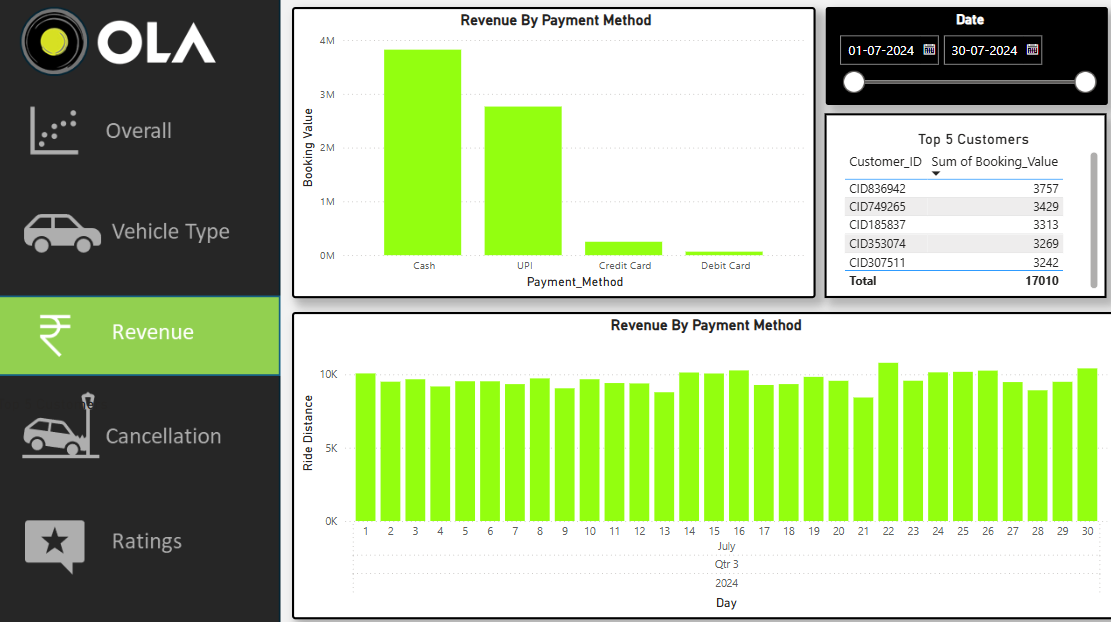

The page's visual inventory and layout, read from the dashboard file:
{"tool":"powerbi","page":{"name":"Revenue","canvas":[1280,720],"ordinal":2},"visuals":[{"type":"actionButton","box":[0,223.2,323.3,86.9],"z":0},{"type":"actionButton","title":"Top 5 Customers","box":[0,454.8,323.3,86.9],"z":1000},{"type":"actionButton","box":[0,580.3,323.3,86.9],"z":2000},{"type":"columnChart","title":"Revenue By Payment Method","fields":{"Y":["Sum(July.Booking_Value)"],"Category":["July.Payment_Method"]},"box":[337.8,10.9,598.4,333],"z":3000},{"type":"columnChart","title":"Revenue By Payment Method","fields":{"Y":["Sum(July.Ride_Distance)"],"Category":["July.Date.Variation.Date Hierarchy.Year","July.Date.Variation.Date Hierarchy.Quarter","July.Date.Variation.Date Hierarchy.Month","July.Date.Variation.Date Hierarchy.Day"]},"box":[337.8,359.5,942.2,351.1],"z":4000},{"type":"slicer","title":"Date","fields":{"Values":["July.Date"]},"box":[947.1,10.9,322.1,112.2],"z":5000},{"type":"tableEx","title":"Top 5 Customers","fields":{"Values":["July.Customer_ID","Sum(July.Booking_Value)"]},"box":[945.8,132.7,322.1,211.1],"z":6000}]}

Visuals, with their boxes in screenshot pixels (x1, y1, x2, y2), scaled from the page's 1280x720 canvas onto the 1111x622 screenshot:
actionButton: <region>0, 193, 281, 268</region>
"Top 5 Customers" actionButton: <region>0, 393, 281, 468</region>
actionButton: <region>0, 501, 281, 576</region>
"Revenue By Payment Method" columnChart: <region>293, 9, 813, 297</region>
"Revenue By Payment Method" columnChart: <region>293, 311, 1110, 614</region>
"Date" slicer: <region>822, 9, 1102, 106</region>
"Top 5 Customers" tableEx: <region>821, 115, 1100, 297</region>
